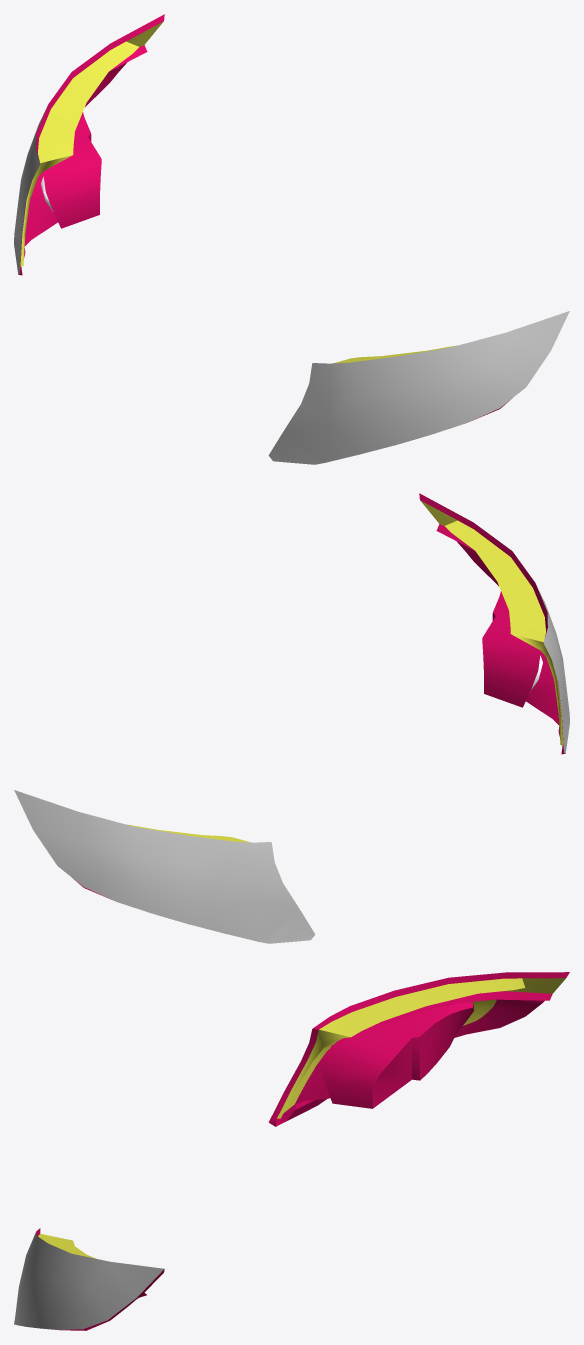
File: headlights.glb
3 views of the same model, one above another, from view 1: azimuth 30°, elevation 25°; view 2: azimuth 150°, elevation 25°; view 3: azimuth 330°, elevation 25° (orthographic).
Visible parts, largest first — view 1: VKlass_V260_front_light004, Object050, Object046; view 2: VKlass_V260_front_light004, Object050, Object046; view 3: Object050, VKlass_V260_front_light004, Object046.
Boxes of the visible parts, x1,y1,x2,y2 form: VKlass_V260_front_light004: (14,106,569,464); Object050: (18,14,509,420); Object046: (20,21,457,363); VKlass_V260_front_light004: (14,585,569,943); Object050: (74,493,565,899); Object046: (126,500,563,842); Object050: (36,972,569,1330); VKlass_V260_front_light004: (14,972,566,1329); Object046: (38,978,565,1258).
Bounding box in the file's own units: 0.5439 × 0.3549 × 1.77.
